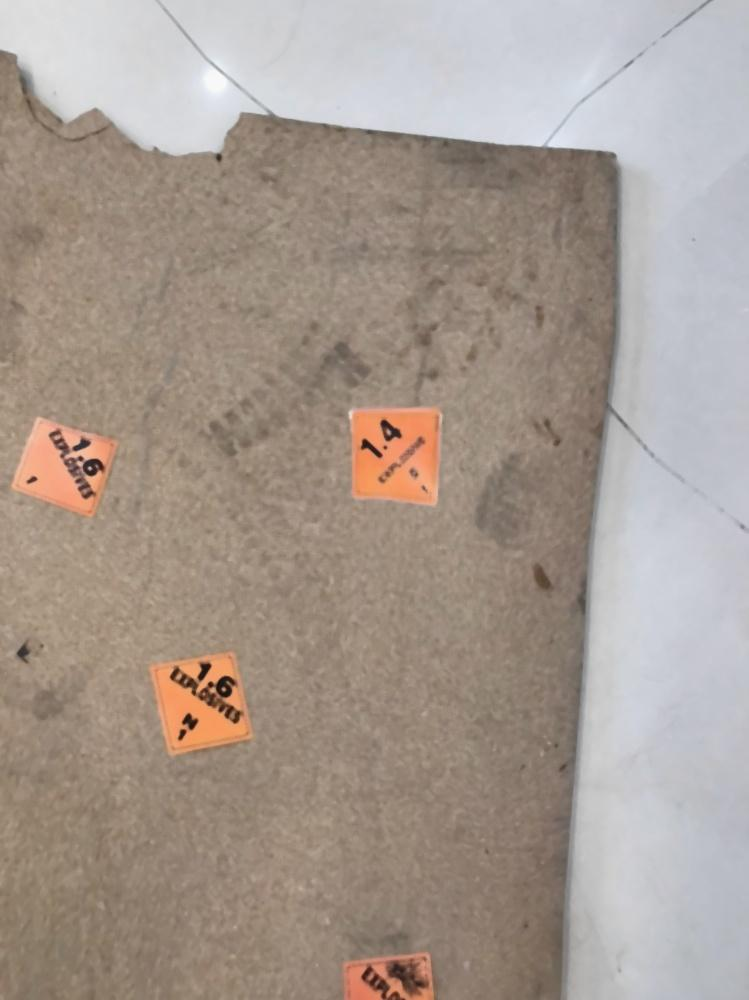explosive: (150, 644, 258, 765), (9, 412, 120, 520), (346, 406, 447, 510), (348, 951, 442, 1000)
